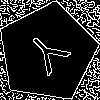Y: (22, 27, 78, 83)
